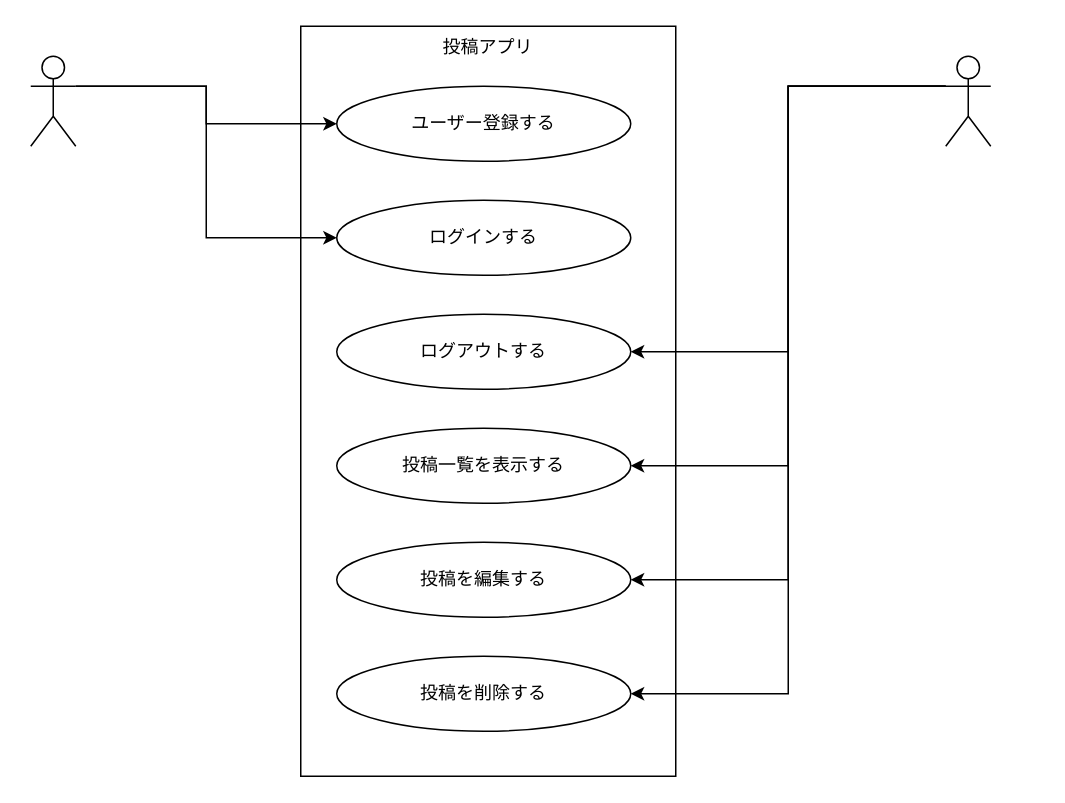
The diagram is 1065 pixels wide and 803 high, and some of its shapes have lost their labels. Here are the shapes that lost their labels. From the top down, the centre of each, then its label:
point (52, 100): 訪問者
point (967, 100): ログイン済利用者
